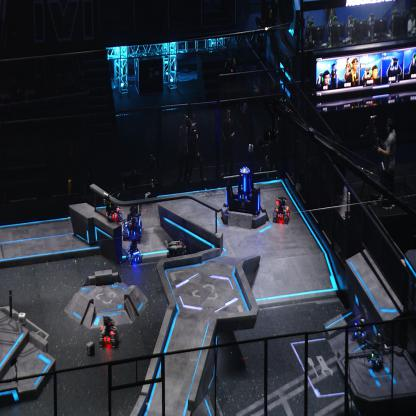car: (119, 202, 142, 241), (164, 237, 190, 270), (98, 314, 119, 350), (124, 238, 144, 266), (105, 196, 124, 223), (272, 196, 290, 224), (350, 316, 368, 344)
